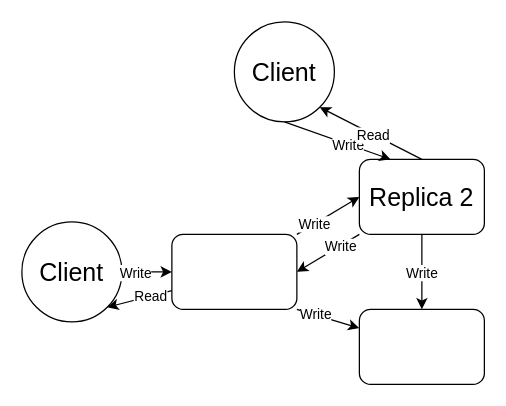
Image size: 506x406. Some labels were removed from this diagram. The shapes that lost their labels are listed below. From the top down, each one's box as (x1, y1, x2, y2) in pixels, then its label:
(171, 233, 297, 309): Replica 1
(358, 308, 484, 384): Replica 3
